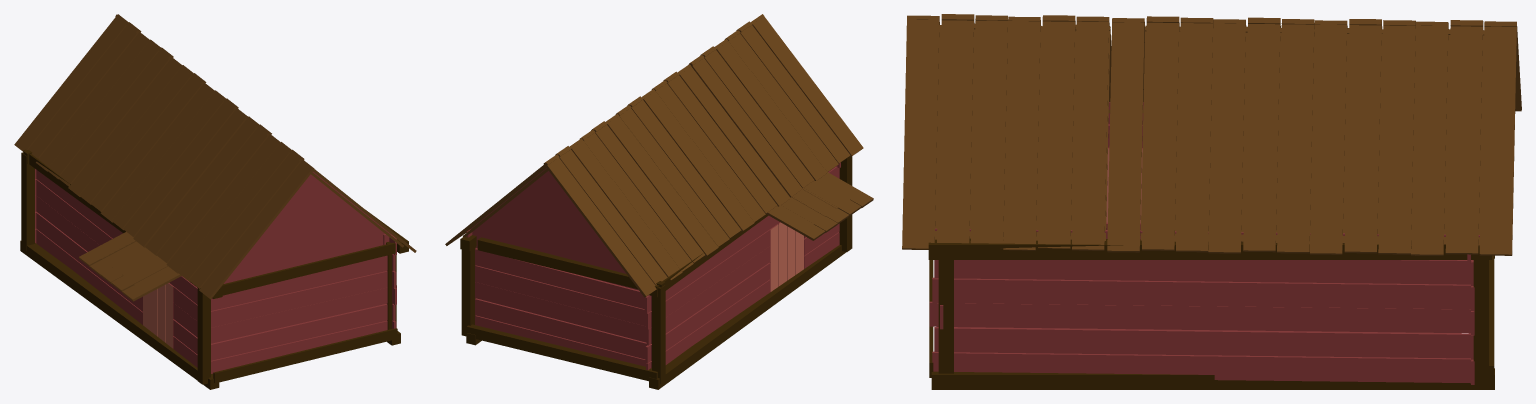
The model's file is House.fbx.
3 views of the same model, side by side, from view 1: azimuth 30°, elevation 25°; view 2: azimuth 150°, elevation 25°; view 3: azimuth 270°, elevation 25° (orthographic). The views are drawn at different scales.
Visible parts, largest first — view 1: Cube.036, Cube.047, Cube.044, Cube.041, Cube.038, Cube.043, Cube.037; view 2: Cube.036, Cube.047, Cube.045, Cube.046, Cube.038, Cube.039, Cube.043; view 3: Cube.036, Cube.049, Cube.042, Cube.039, Cube.037, Cube.045.
Boxes of the visible parts, x1,y1,x2,y2 form: Cube.036: (14,14,416,384); Cube.047: (20,240,219,389); Cube.044: (213,328,397,383); Cube.041: (212,242,395,297); Cube.038: (21,152,34,251); Cube.043: (23,149,222,298); Cube.037: (386,241,396,329); Cube.036: (445,14,873,369); Cube.047: (649,245,846,389); Cube.045: (466,324,657,381); Cube.046: (477,237,665,289); Cube.038: (652,285,665,383); Cube.039: (461,247,475,336); Cube.043: (649,214,768,296); Cube.036: (902,14,1521,384); Cube.049: (931,368,1494,389); Cube.042: (928,239,1491,259); Cube.039: (1473,260,1488,387); Cube.037: (938,260,953,373); Cube.045: (1489,255,1494,374).
Bounding box in the file's own units: 294 × 226 × 414.
